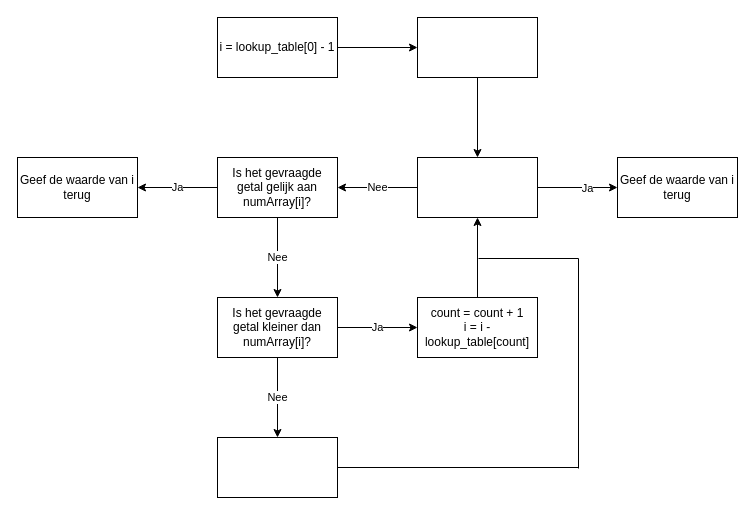
This 755x515 diagram has some shape labels left out. Each missing label, with the centre of its shape:
count = 0: the point at 477,47
count = count + 1 i = i + lookup_table[count]: the point at 277,467
Is lookup_table[count] gelijk aan 0?: the point at 477,187
